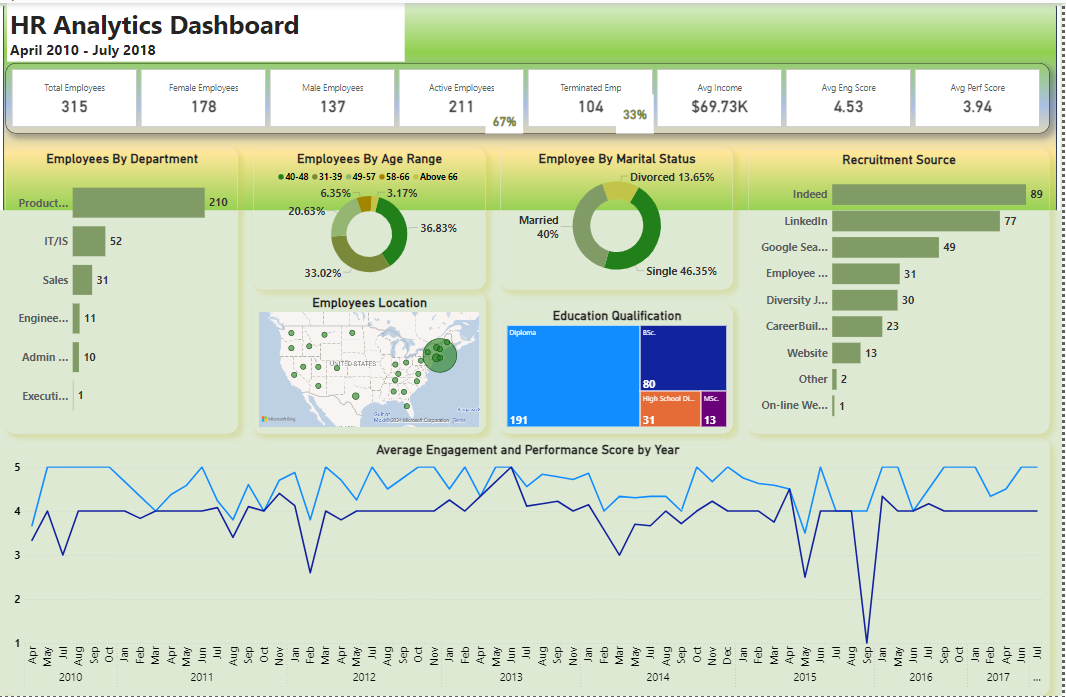

This screenshot's page, from the dashboard's own definition file:
{"tool":"powerbi","page":{"name":"Summary Page","canvas":[2000,1300],"ordinal":1},"visuals":[{"type":"image","box":[0,0,2003.5,393.9],"z":0},{"type":"cardVisual","fields":{"Data":["MeasureTable.Total Employees","MeasureTable.Female","MeasureTable.Male","MeasureTable.Active","MeasureTable.Termination","MeasureTable.Avg Income","MeasureTable.Avg Eng Score","MeasureTable.Avg Perf Score"]},"box":[19.7,112.6,1958.4,132.3],"z":1000},{"type":"card","fields":{"Values":["MeasureTable.%Active"]},"box":[920.1,197,70.3,47.8],"z":2000},{"type":"card","fields":{"Values":["MeasureTable.%Terminated"]},"box":[1164.9,171.6,70.3,73.2],"z":3000},{"type":"barChart","title":"Employees By Department","fields":{"Y":["CountNonNull(HR Dataset.EmployeeID)"],"Category":["HR Dataset.Department"]},"box":[19.7,270.1,436.1,537.4],"z":4000},{"type":"donutChart","title":"Employees By Age Range","fields":{"Category":["HR Dataset.Age Range"],"Y":["MeasureTable.Total Employees"]},"box":[484,270.1,436.1,267.3],"z":5000},{"type":"map","title":"Employees Location","fields":{"Size":["MeasureTable.Total Employees"],"Category":["HR Dataset.State"]},"box":[484,540.3,436.1,267.3],"z":6000},{"type":"donutChart","title":"Employee By Marital Status","fields":{"Y":["MeasureTable.Total Employees"],"Category":["HR Dataset.MaritalStatus"]},"box":[948.3,270.1,436.1,267.3],"z":7000},{"type":"barChart","title":"Recruitment Source","fields":{"Y":["MeasureTable.Total Employees"],"Category":["HR Dataset.RecruitmentSource"]},"box":[1412.6,272.9,565.6,534.6],"z":8000},{"type":"treemap","title":"Education Qualification","fields":{"Values":["MeasureTable.Total Employees"],"Group":["HR Dataset.Education Qualification"]},"box":[948.3,565.6,436.1,242],"z":9000},{"type":"textbox","box":[22.5,0,745.7,109.7],"z":10000},{"type":"lineChart","title":"Average Engagement and Performance Score by Year","fields":{"Y":["MeasureTable.Avg Eng Score","MeasureTable.Avg Perf Score"],"Category":["DateTable.Year","DateTable.Month Name"]},"box":[19.7,816,1958.4,484],"z":11000}]}

Visuals, with their boxes in screenshot pixels (x1, y1, x2, y2), scaled from the page's 2000x1300 canvas onto the 1066x697 screenshot:
image: select_region(0, 0, 1065, 211)
cardVisual - MeasureTable.Total Employees x MeasureTable.Female: select_region(11, 60, 1054, 131)
card - MeasureTable.%Active: select_region(490, 106, 528, 131)
card - MeasureTable.%Terminated: select_region(621, 92, 658, 131)
"Employees By Department" barChart: select_region(11, 145, 243, 433)
"Employees By Age Range" donutChart: select_region(258, 145, 490, 288)
"Employees Location" map: select_region(258, 290, 490, 433)
"Employee By Marital Status" donutChart: select_region(505, 145, 738, 288)
"Recruitment Source" barChart: select_region(753, 146, 1054, 433)
"Education Qualification" treemap: select_region(505, 303, 738, 433)
textbox: select_region(12, 0, 409, 59)
"Average Engagement and Performance Score by Year" lineChart: select_region(11, 438, 1054, 696)
